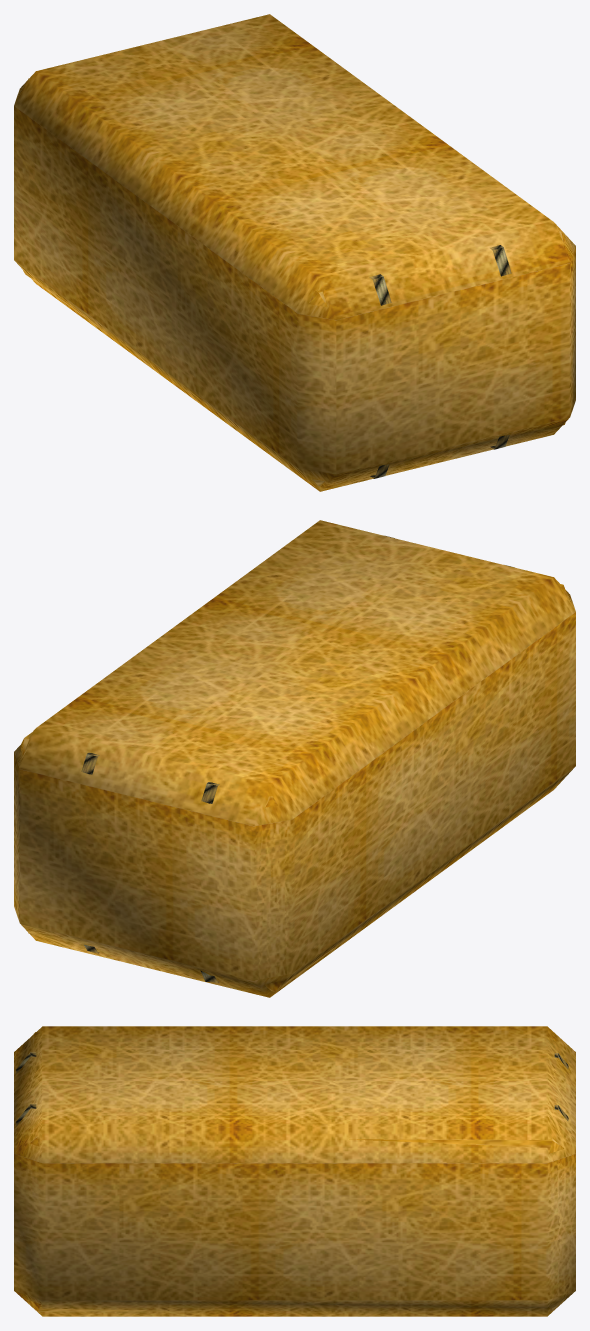
File: HAYBAIL_BIG.fbx
3 views of the same model, one above another, from view 1: azimuth 30°, elevation 25°; view 2: azimuth 150°, elevation 25°; view 3: azimuth 270°, elevation 25° (orthographic). The views are drawn at different scales.
Visible parts, largest first — view 1: HAYBAIL_BIG; view 2: HAYBAIL_BIG; view 3: HAYBAIL_BIG.
Boxes of the visible parts, box(x1,y1,x2,y2) form: HAYBAIL_BIG: box(14, 14, 575, 491); HAYBAIL_BIG: box(14, 520, 575, 997); HAYBAIL_BIG: box(14, 1026, 575, 1316).
Size of the model in its own units: 9963 by 7289 by 19647.
3 materials, 3 textured.
